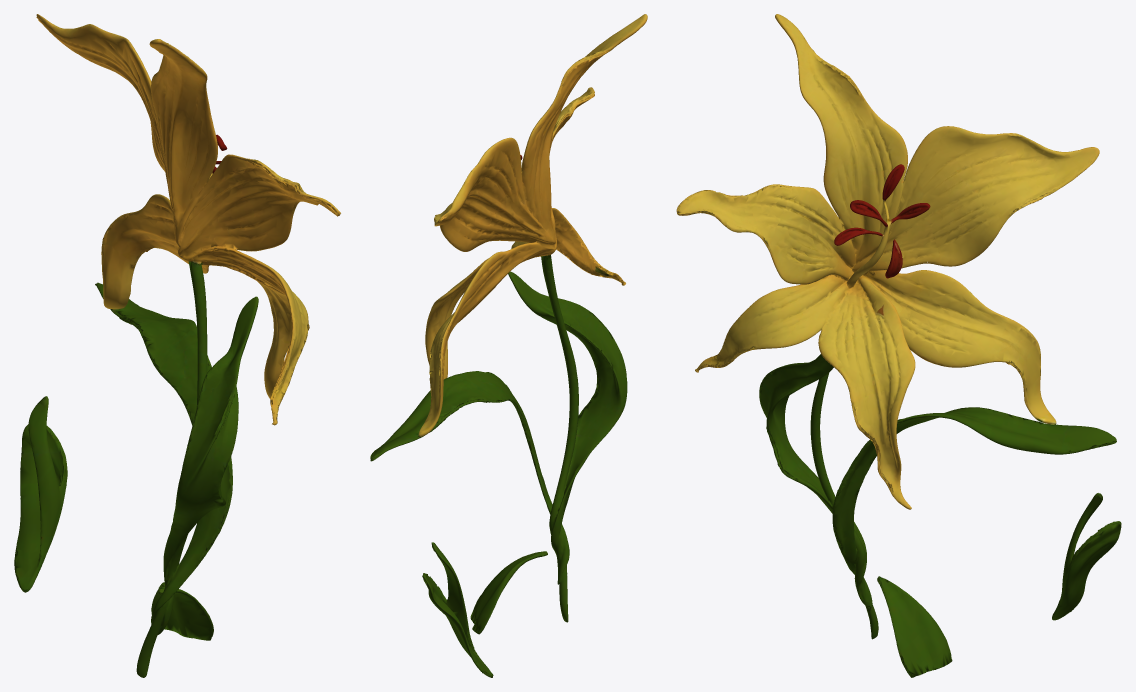
File: diya-yellow-lily.glb
3 views of the same model, side by side, from view 1: azimuth 30°, elevation 25°; view 2: azimuth 150°, elevation 25°; view 3: azimuth 270°, elevation 25° (orthographic). The views are drawn at different scales.
Parts seen in each view (by area): view 1: tripo_node_5ce7f1d8-31ac-4623-bc17-5f36673ab5f0; view 2: tripo_node_5ce7f1d8-31ac-4623-bc17-5f36673ab5f0; view 3: tripo_node_5ce7f1d8-31ac-4623-bc17-5f36673ab5f0.
Boxes of the visible parts, <box> form: tripo_node_5ce7f1d8-31ac-4623-bc17-5f36673ab5f0: <box>14,14,340,677</box>; tripo_node_5ce7f1d8-31ac-4623-bc17-5f36673ab5f0: <box>370,14,647,677</box>; tripo_node_5ce7f1d8-31ac-4623-bc17-5f36673ab5f0: <box>676,14,1121,677</box>.
Size of the model in its own units: 0.3052 by 0.9997 by 0.6624.
Materials: 1 (1 with a texture image).
